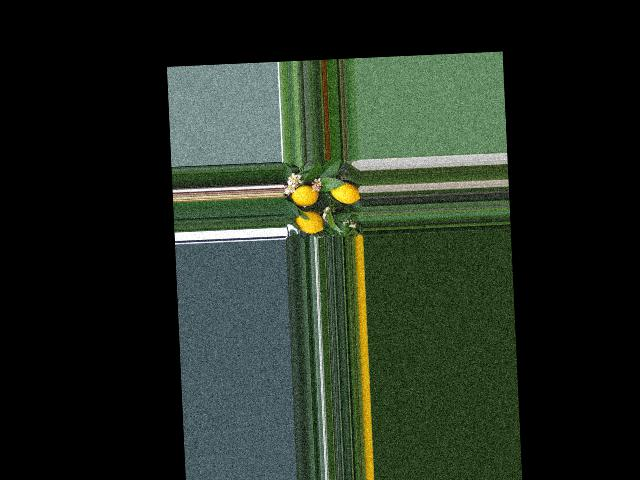lemon: (326, 177, 359, 206)
